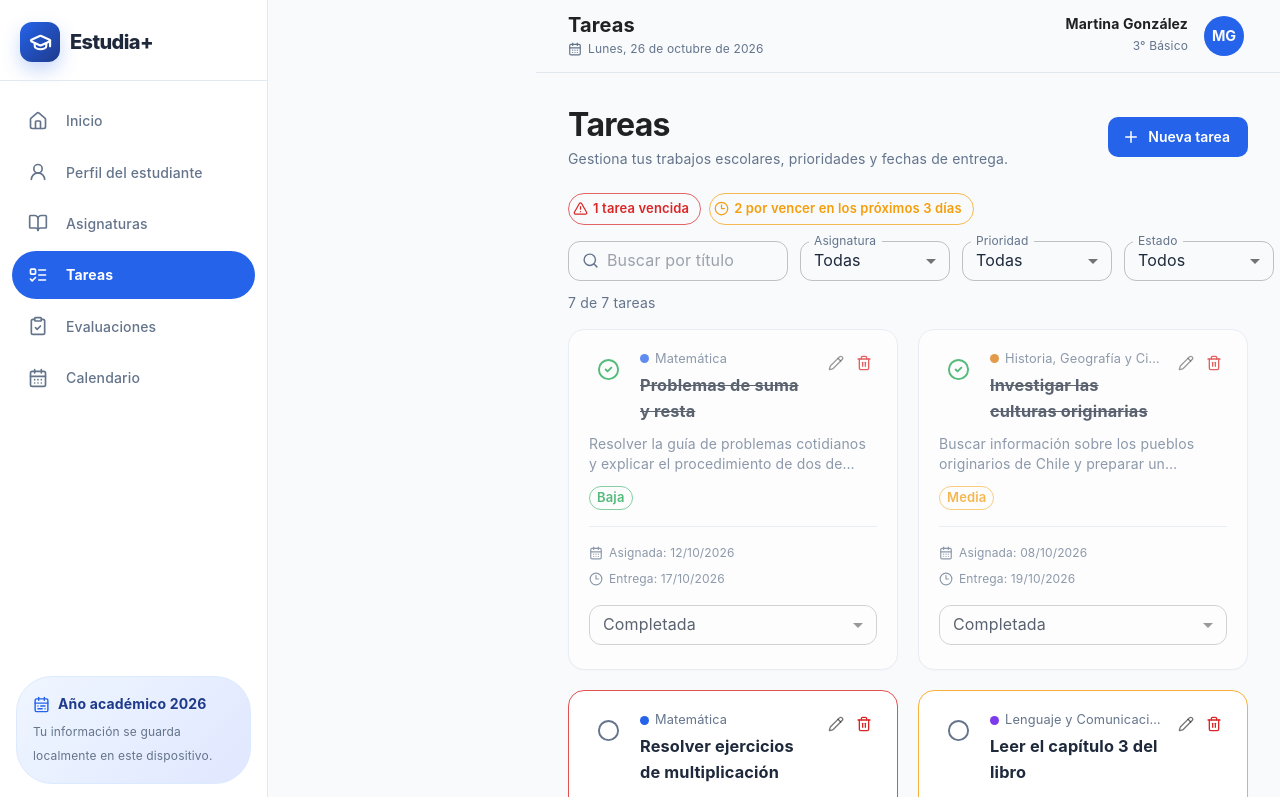
gestión de tareas › busca tareas por título y evidencia las vencidas
The image size is (1280, 797).
Check: the heading "Resolver ejercicios de multiplicación" is shown, box top-left (640, 733), bottom-right (811, 785)
In the field with placeholder "Buscar por título": coordinates (698, 260) top-left (607, 240), bottom-right (788, 280), type "sistema solar"
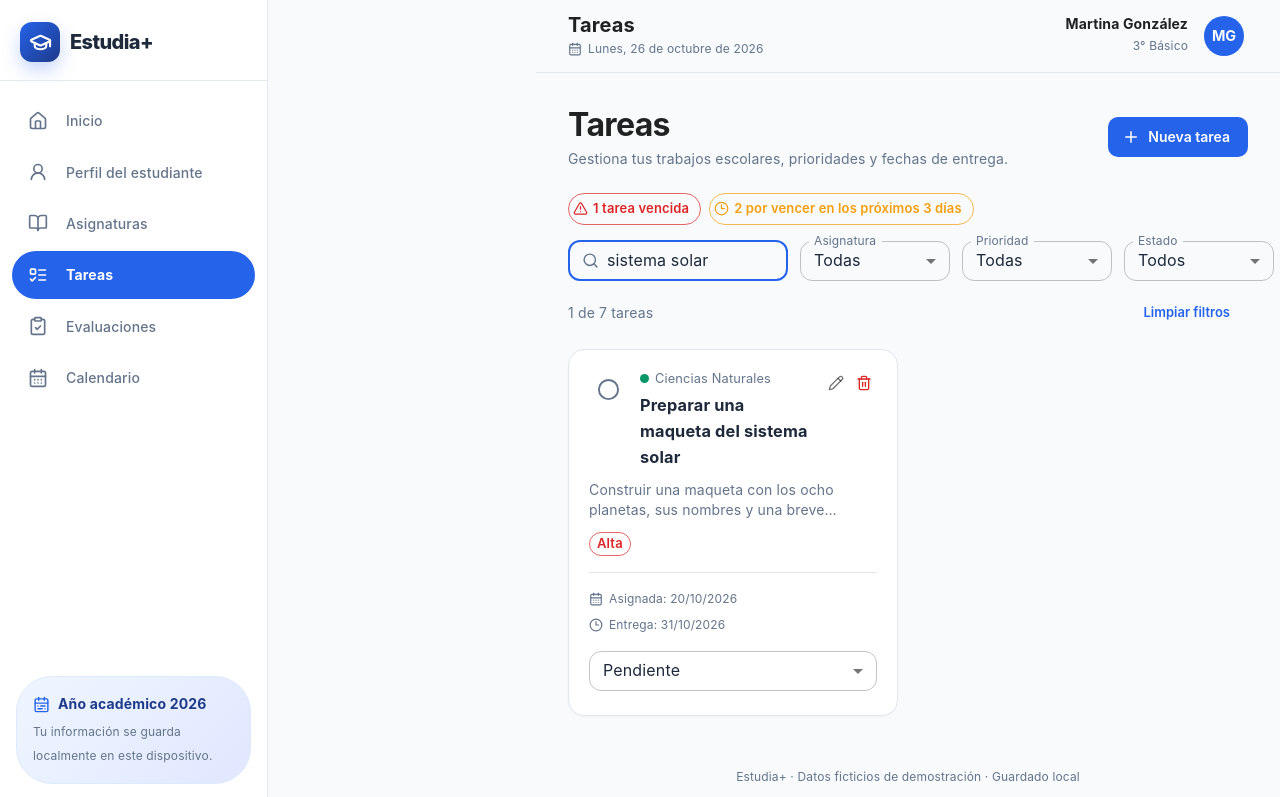
Check: the heading "Preparar una maqueta del sistema solar" is shown, box top-left (640, 392), bottom-right (811, 470)
Check: the text "1 de 7 tareas" is shown, box top-left (568, 302), bottom-right (653, 322)
Check: the heading "Resolver ejercicios de multiplicación" is gone
